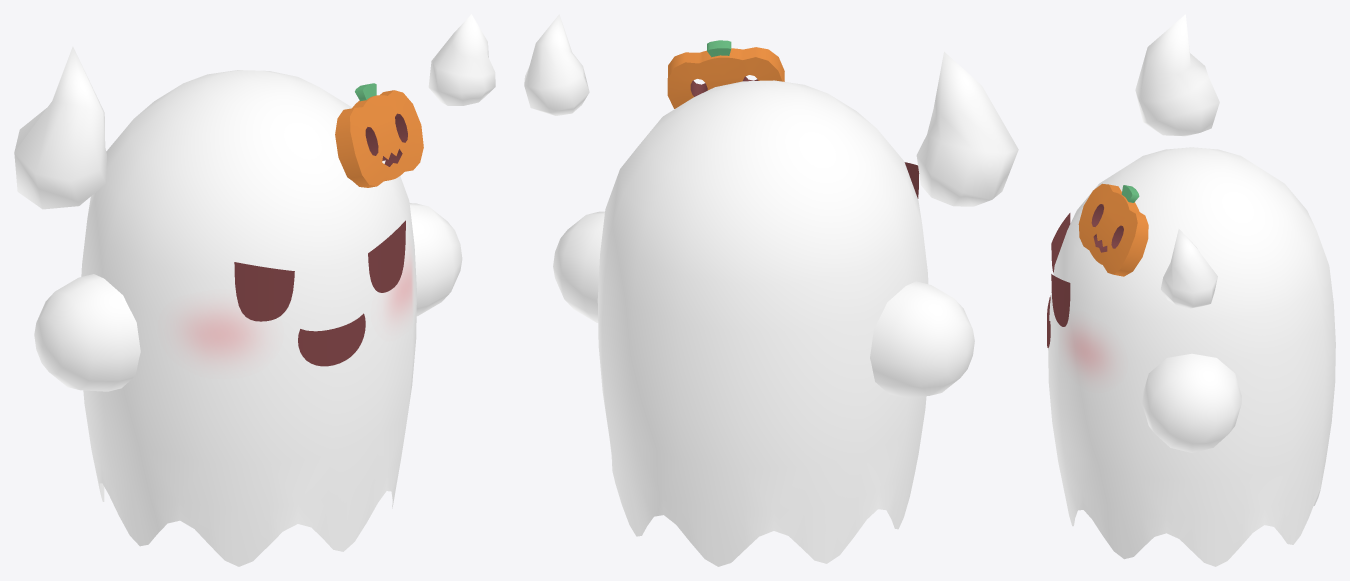
Rendered from ghost.glb.
3 renders of one model, left to right at view 1: azimuth 30°, elevation 25°; view 2: azimuth 150°, elevation 25°; view 3: azimuth 270°, elevation 25°, orthographic. The views are drawn at different scales.
Parts seen in each view (by area): view 1: body; view 2: body; view 3: body.
Part boxes in pixels (bbox=[...]): body: bbox=[14, 14, 495, 566]; body: bbox=[524, 14, 1018, 566]; body: bbox=[1047, 14, 1335, 566].
Size of the model in its own units: 0.4626 by 0.4649 by 0.284.
1 material, 1 textured.
